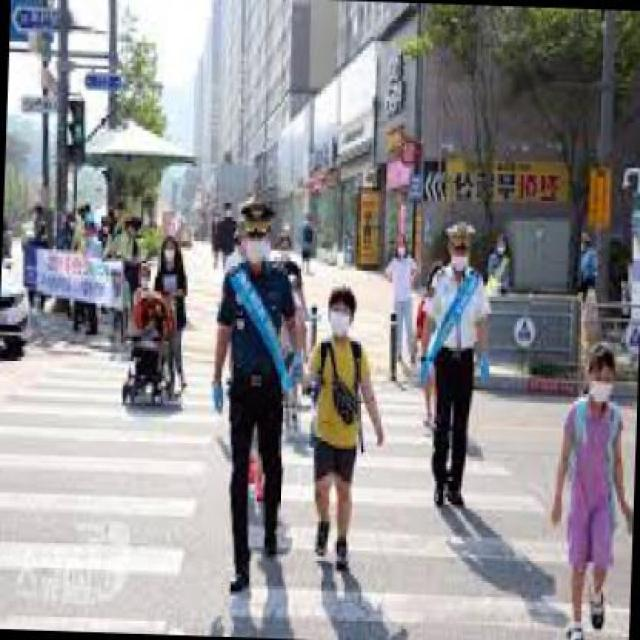obstacle: (208, 202, 298, 589), (549, 343, 634, 639), (296, 288, 378, 568), (420, 221, 489, 505), (150, 237, 193, 391), (382, 234, 420, 366)
